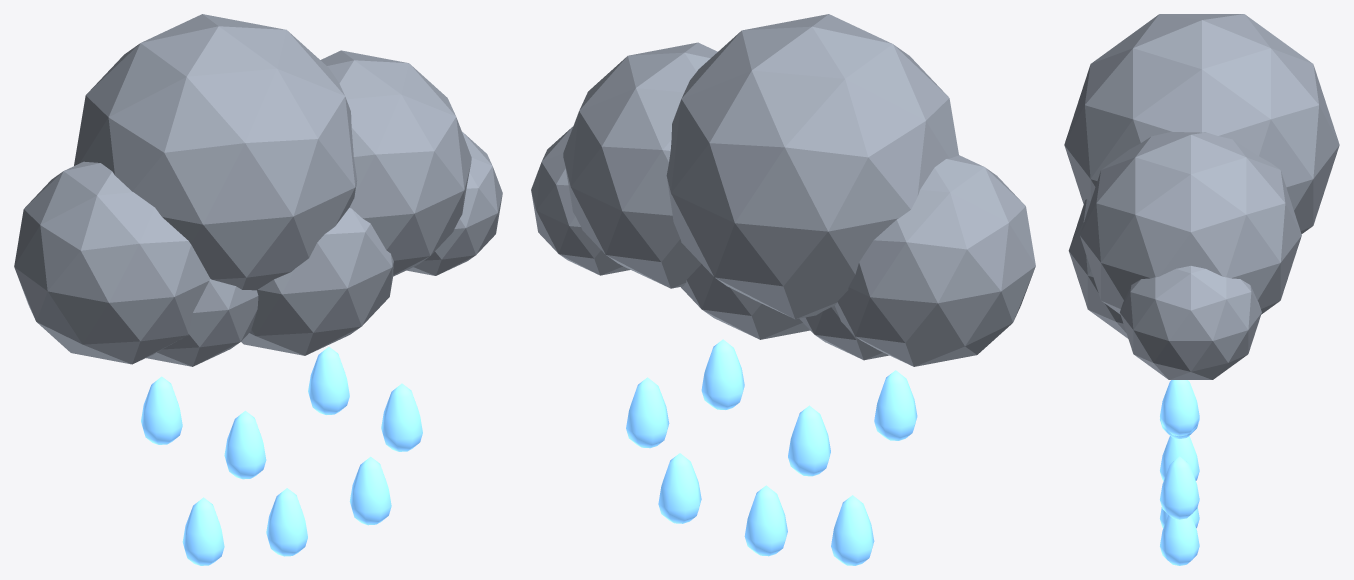
Rendered from rain.glb.
3 views of the same model, side by side, from view 1: azimuth 30°, elevation 25°; view 2: azimuth 150°, elevation 25°; view 3: azimuth 270°, elevation 25° (orthographic). The views are drawn at different scales.
Parts seen in each view (by area): view 1: StormBody, Drop_1, Drop_4, Drop_5, Drop_2, Drop_3, Drop_0, Drop_6; view 2: StormBody, Drop_6, Drop_4, Drop_2, Drop_3, Drop_0, Drop_5, Drop_1; view 3: StormBody, Drop_3, Drop_2, Drop_6, Drop_4.
Part boxes in pixels (bbox=[...]): StormBody: bbox=[14, 14, 502, 366]; Drop_1: bbox=[224, 410, 266, 479]; Drop_4: bbox=[182, 497, 224, 565]; Drop_5: bbox=[266, 488, 307, 556]; Drop_2: bbox=[308, 347, 349, 414]; Drop_3: bbox=[381, 383, 422, 451]; Drop_0: bbox=[141, 376, 182, 444]; Drop_6: bbox=[349, 456, 391, 525]; StormBody: bbox=[531, 14, 1035, 366]; Drop_6: bbox=[658, 453, 701, 523]; Drop_4: bbox=[831, 495, 874, 565]; Drop_2: bbox=[701, 339, 744, 409]; Drop_3: bbox=[626, 377, 669, 448]; Drop_0: bbox=[874, 370, 917, 440]; Drop_5: bbox=[744, 485, 787, 556]; Drop_1: bbox=[788, 405, 830, 476]; StormBody: bbox=[1064, 14, 1339, 379]; Drop_3: bbox=[1160, 456, 1199, 519]; Drop_2: bbox=[1160, 380, 1199, 436]; Drop_6: bbox=[1160, 515, 1199, 565]; Drop_4: bbox=[1160, 436, 1199, 480].
Bounding box in the file's own units: 2.2 × 2.44 × 1.24.
